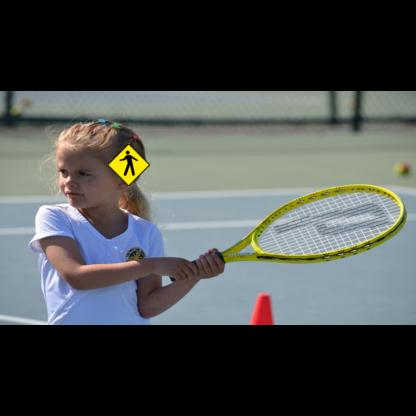A-32a: (107, 143, 150, 186)
